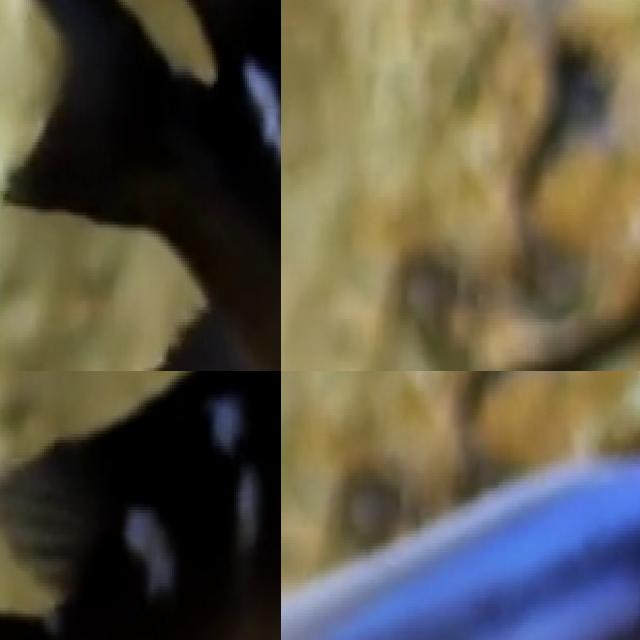fish: (0, 0, 281, 371), (281, 433, 640, 640)
